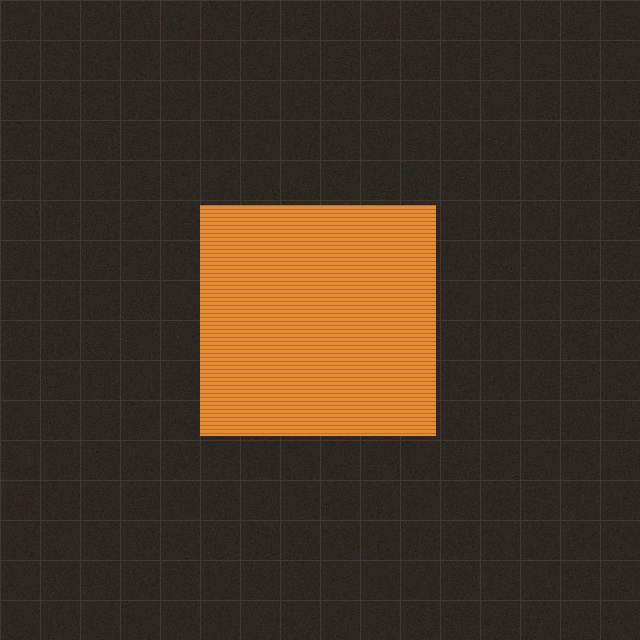normal: (200, 205, 435, 435)
